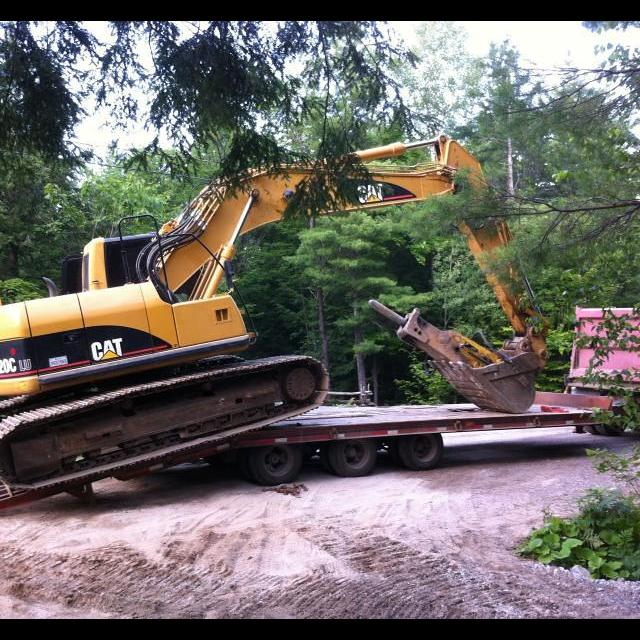Excavator: (0, 133, 550, 517)
truck and trailer: (223, 300, 640, 478)
